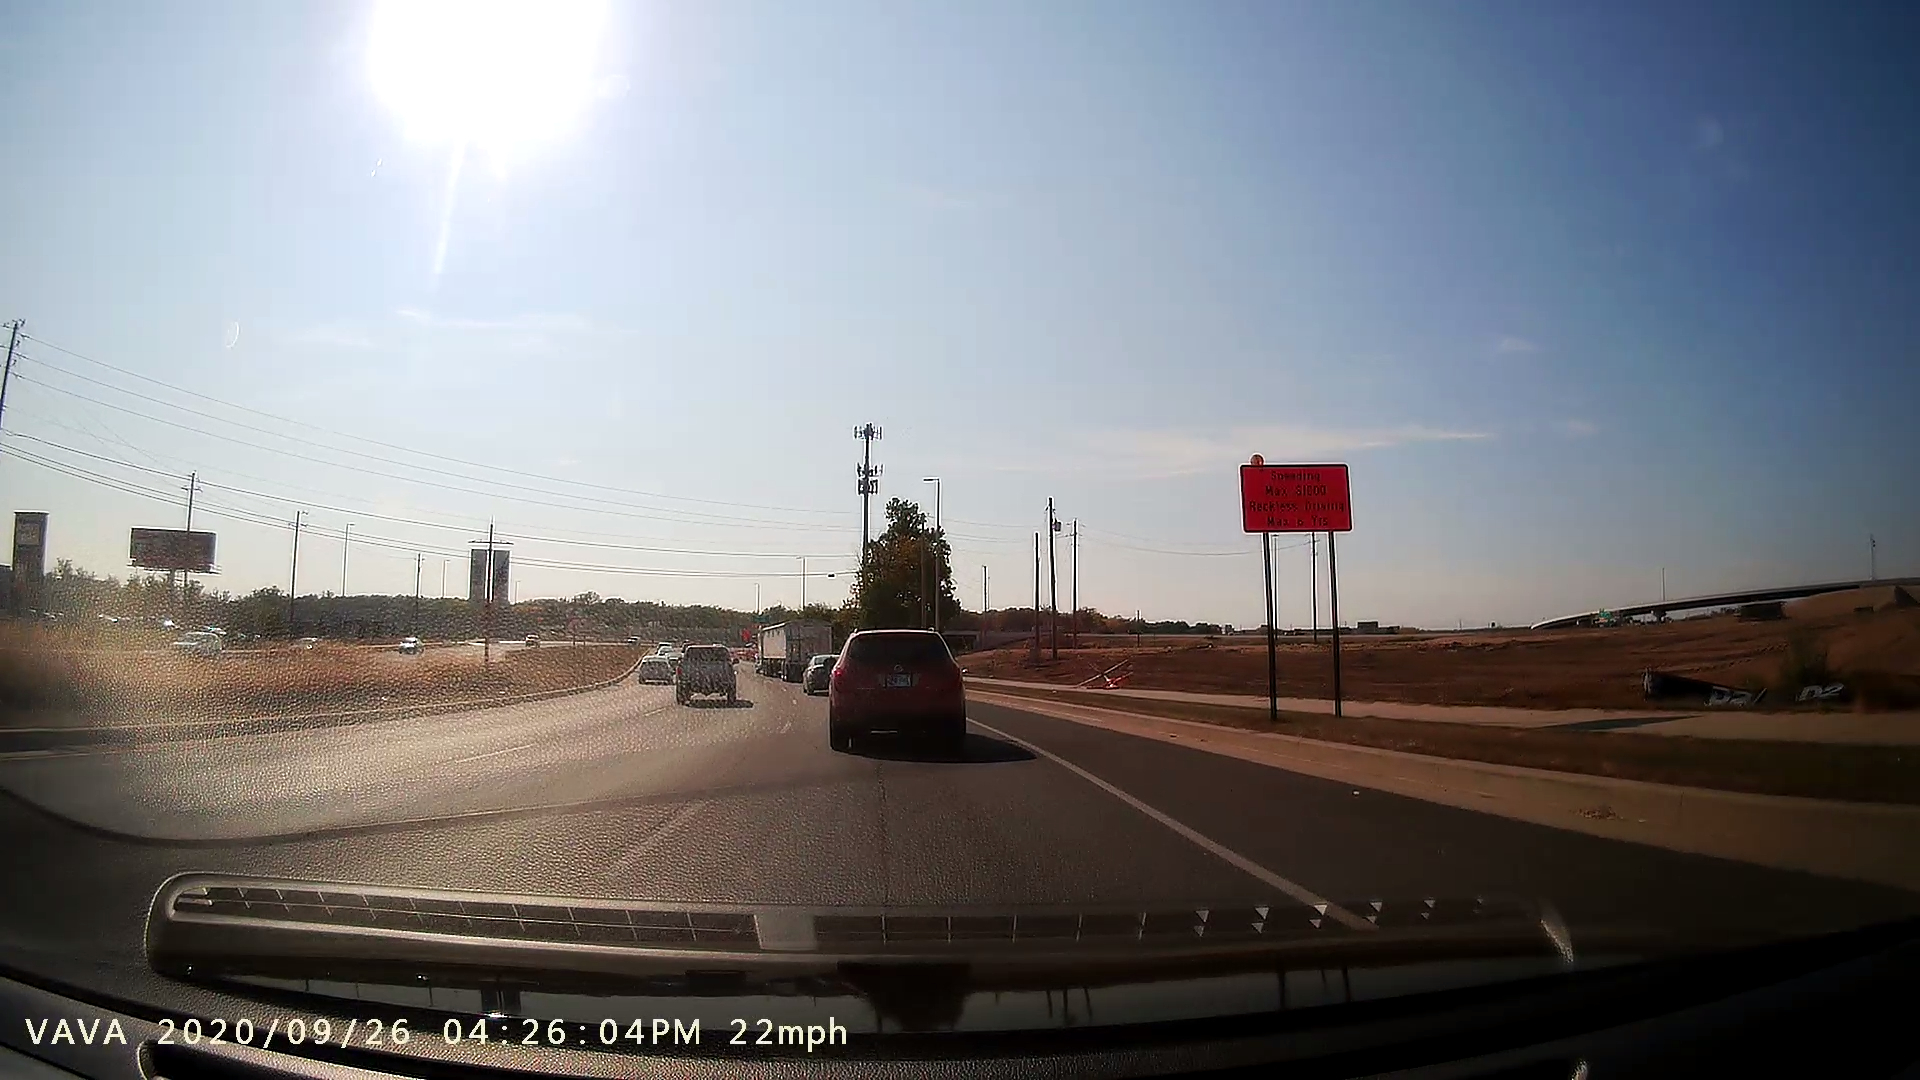temperary_sign: (1229, 447, 1370, 728)
